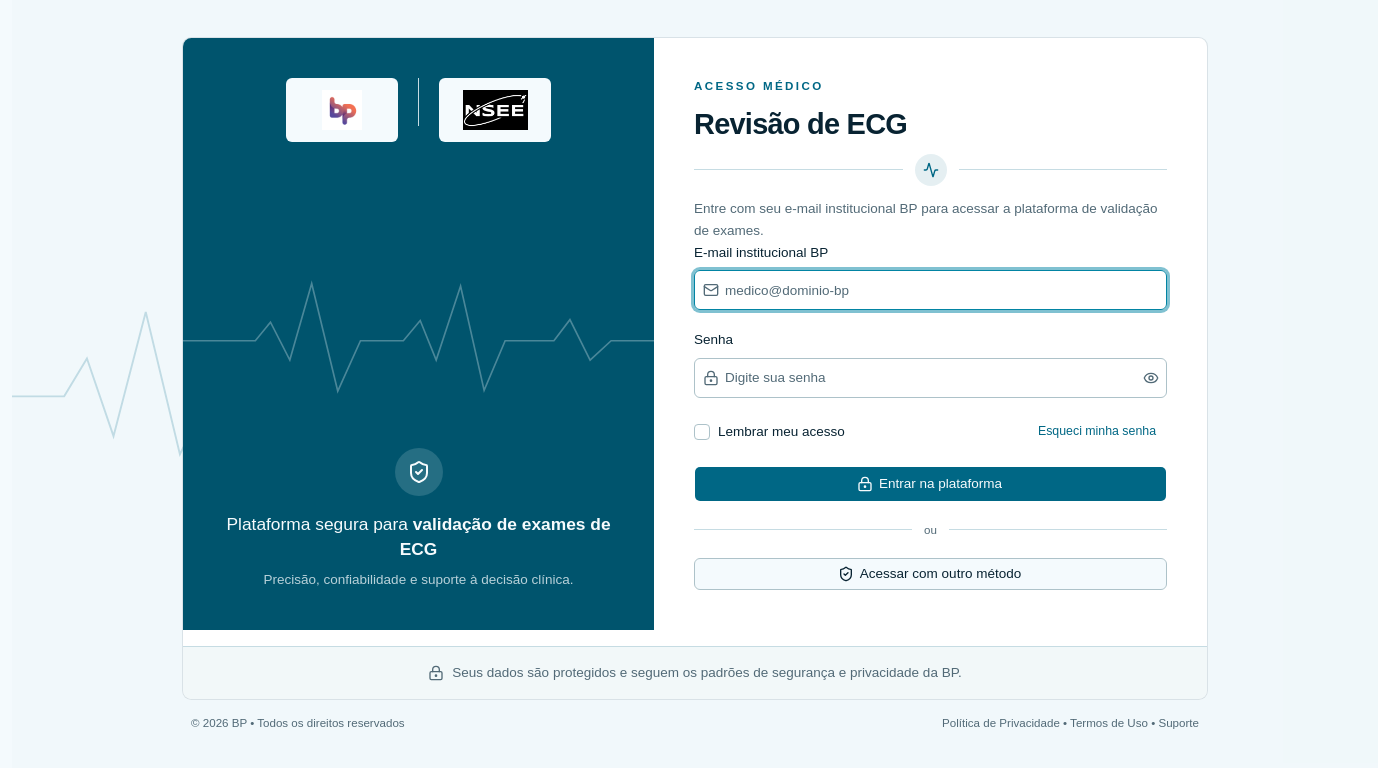
LoginPage › libera uma nova tentativa após falha de rede e limpa a mensagem ao editar
This screenshot has width=1378, height=768.
Type "dr.joao" into the field labelled "E-mail institucional BP".
click(942, 290); type("dr.joao")  # box [719, 274, 1166, 306]
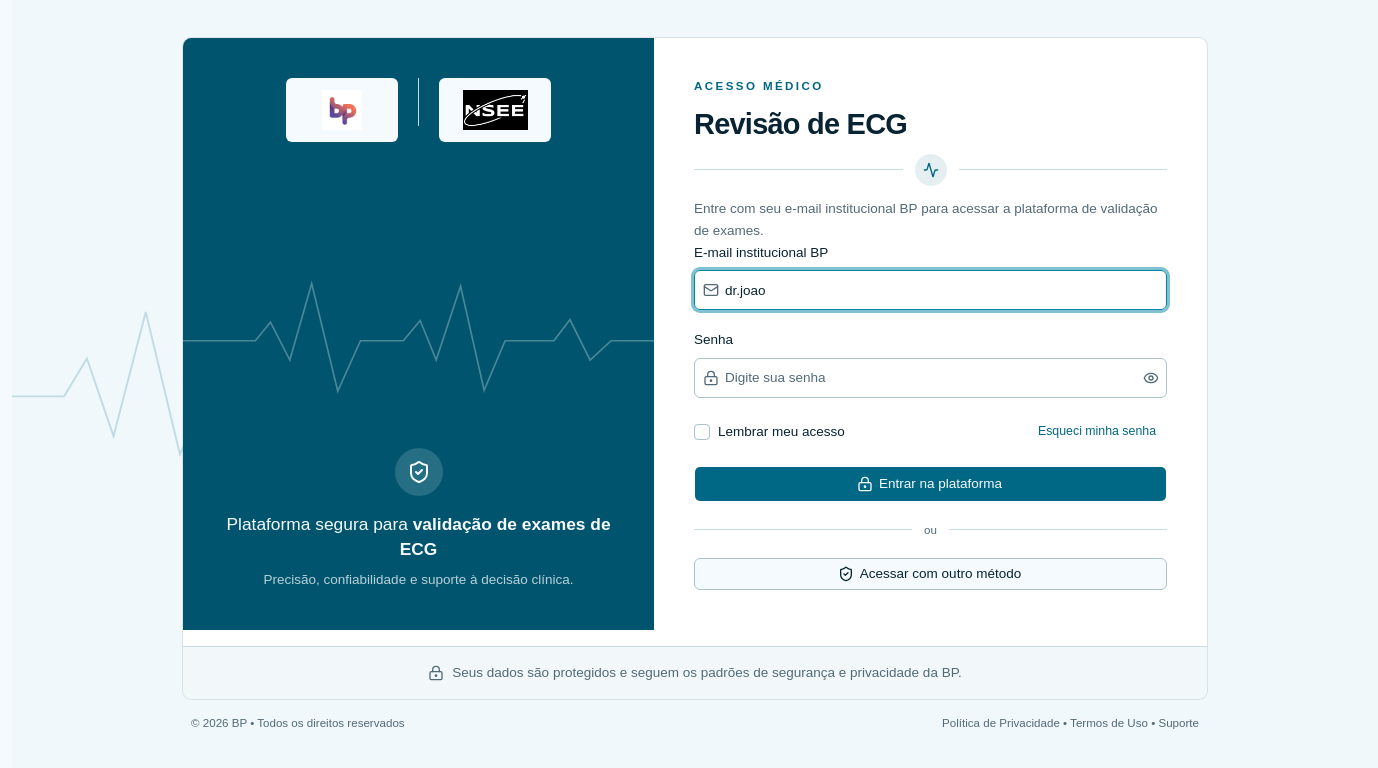
Type "segredo" into the password field labelled "Senha".
click(929, 378); type("segredo")  # box [719, 362, 1139, 394]
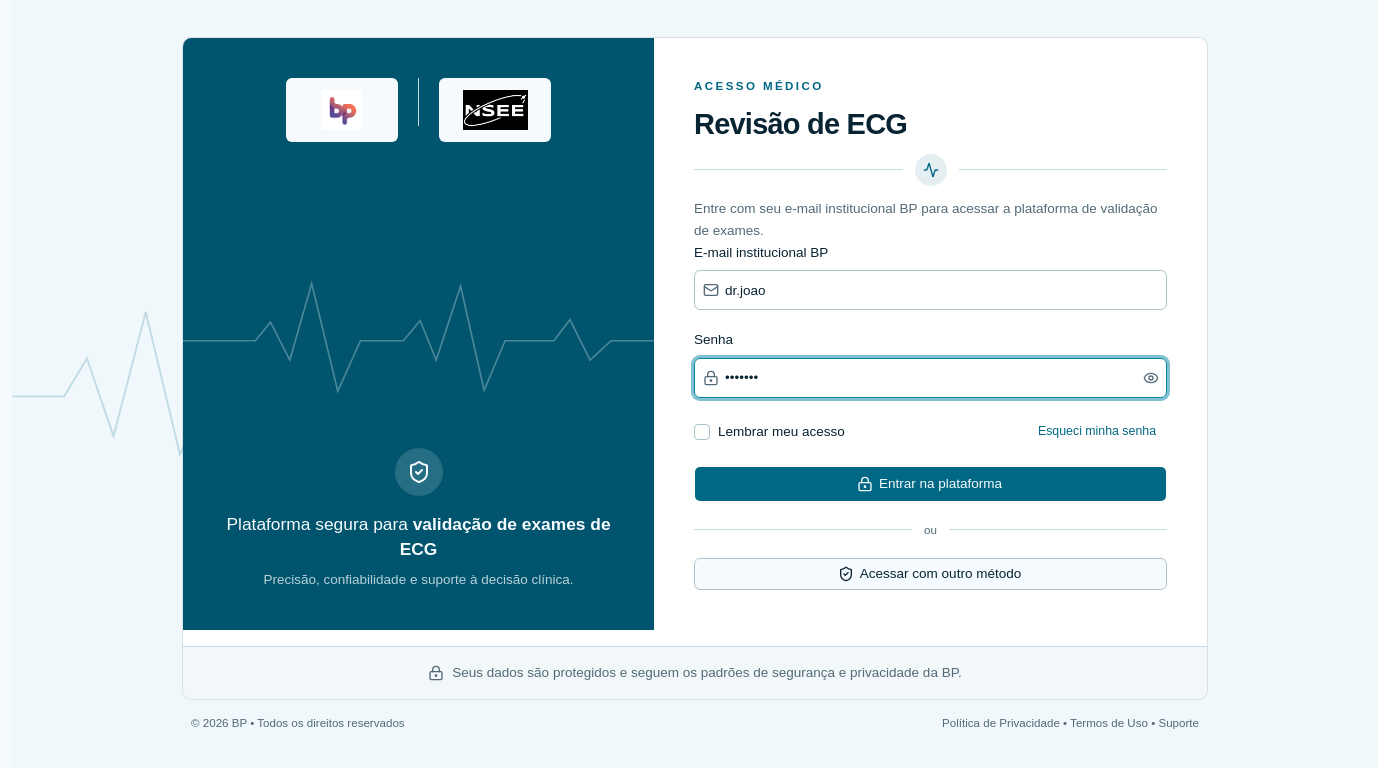
Click the button "Entrar na plataforma".
click(930, 484)  # box [694, 466, 1167, 502]
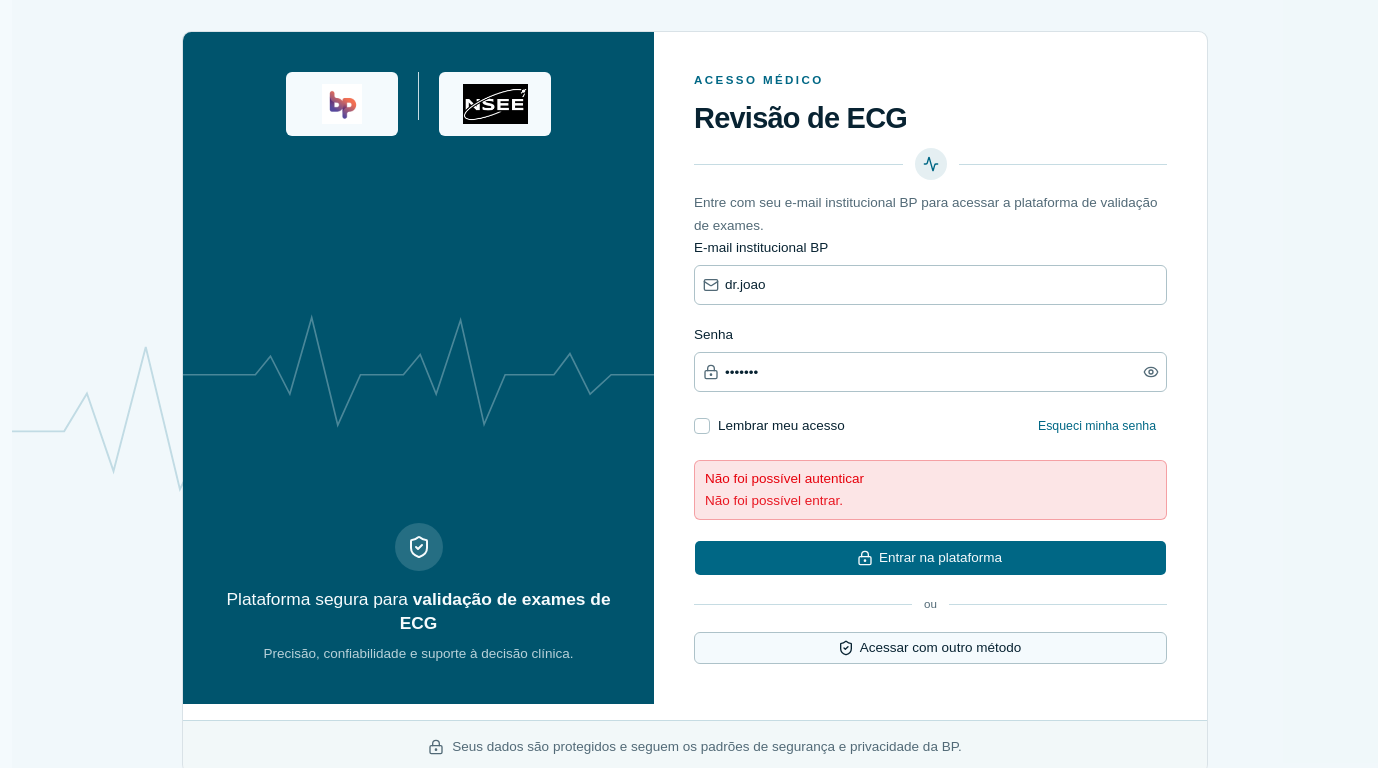
expect the button "Entrar na plataforma" is enabled: met, box [694, 540, 1167, 576]
expect the text "Não foi possível entrar." is shown: met, box [705, 493, 843, 508]
Type "x" into the field labelled "E-mail institucional BP".
click(942, 285); type("x")  # box [719, 269, 1166, 301]
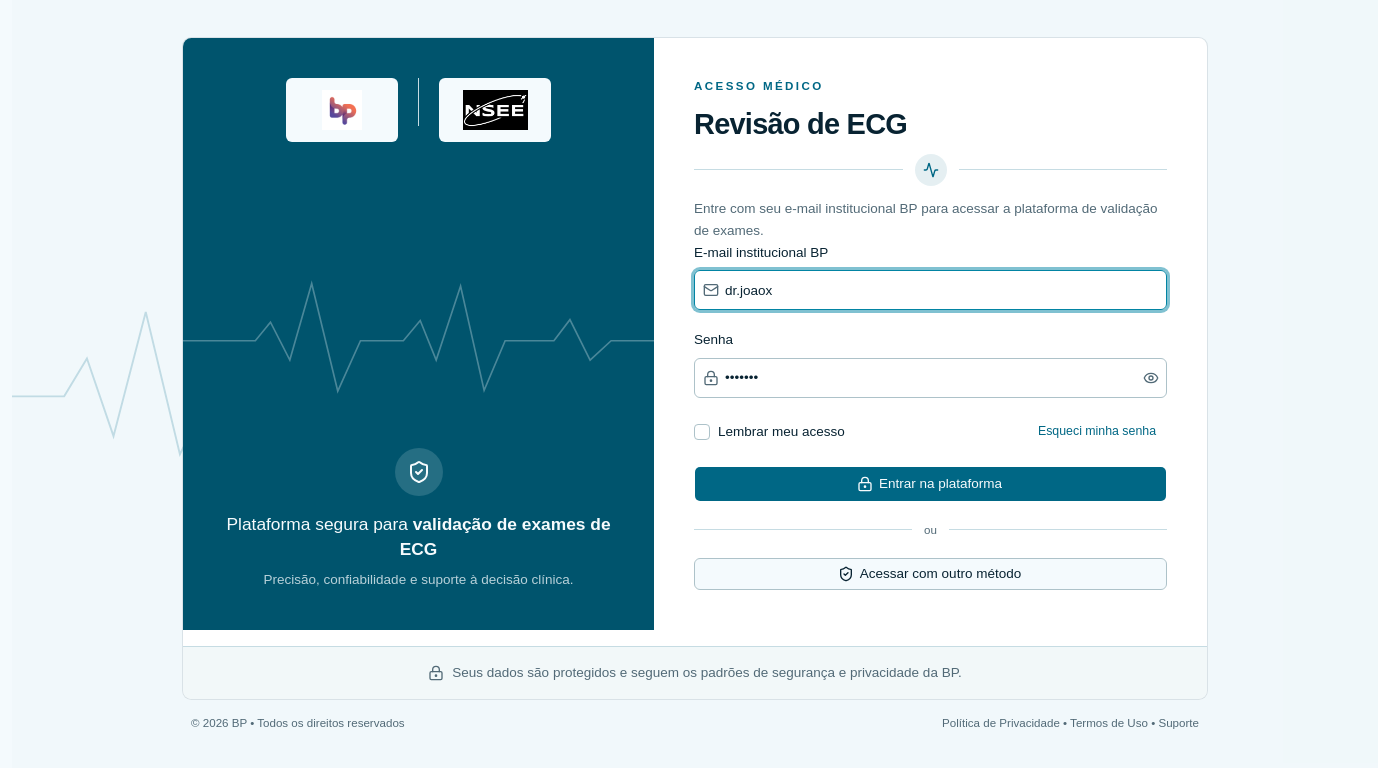
expect the text "Não foi possível entrar." is gone: met
Click the button "Entrar na plataforma".
click(930, 484)  # box [694, 466, 1167, 502]
(page scrolled)
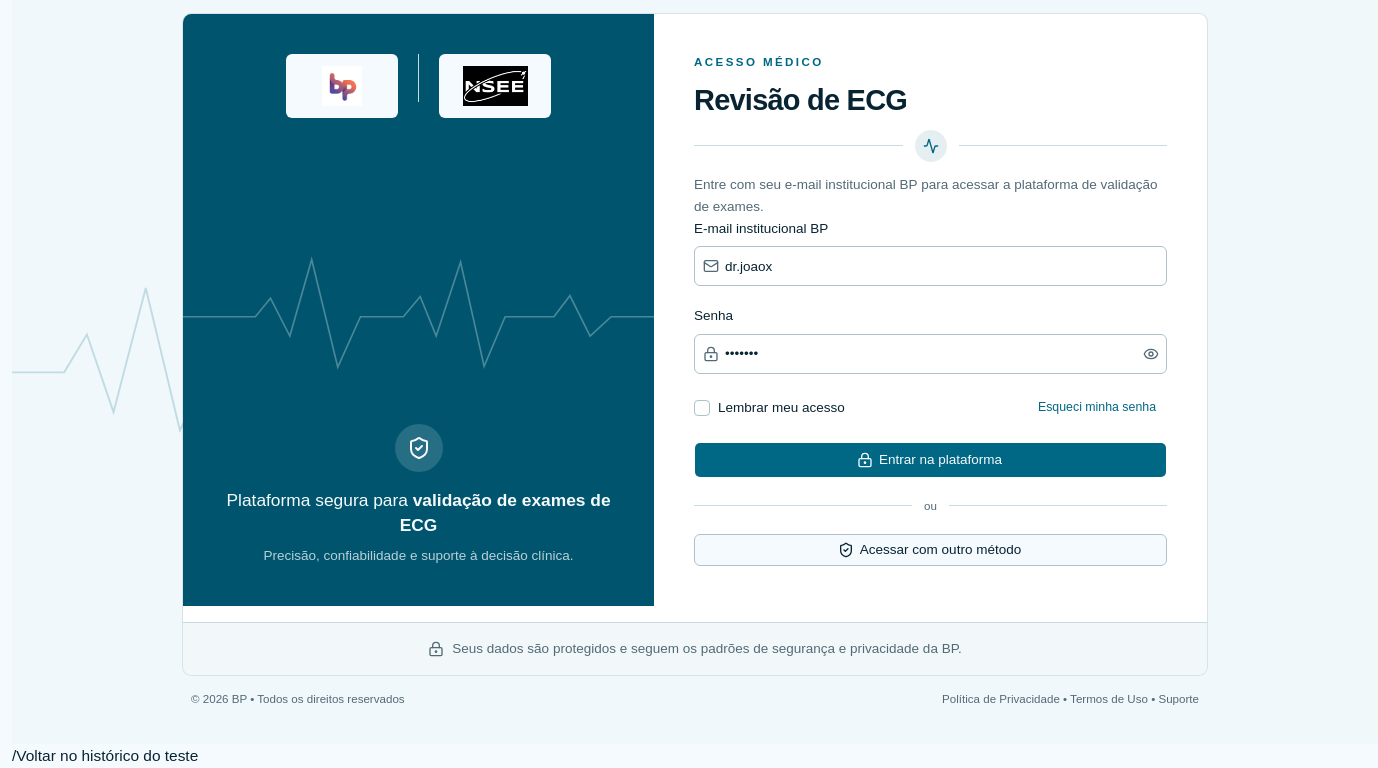
expect the text with test id "router-location" reads "/": met, box [12, 747, 16, 764]
